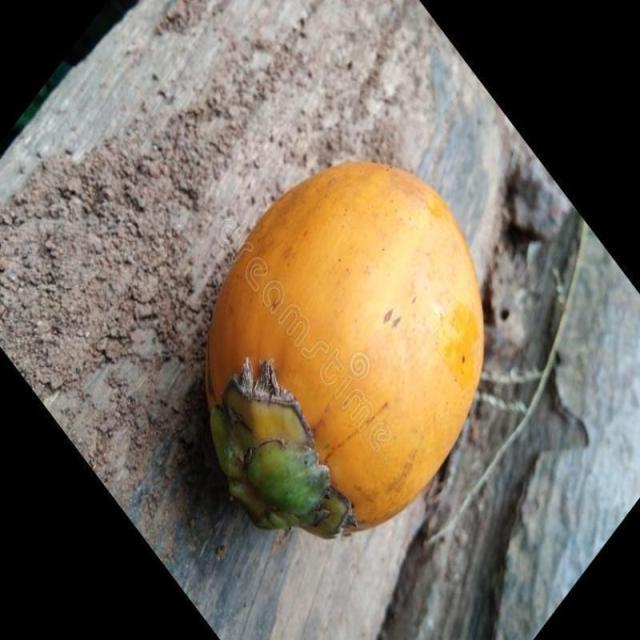good: (203, 162, 486, 542)
